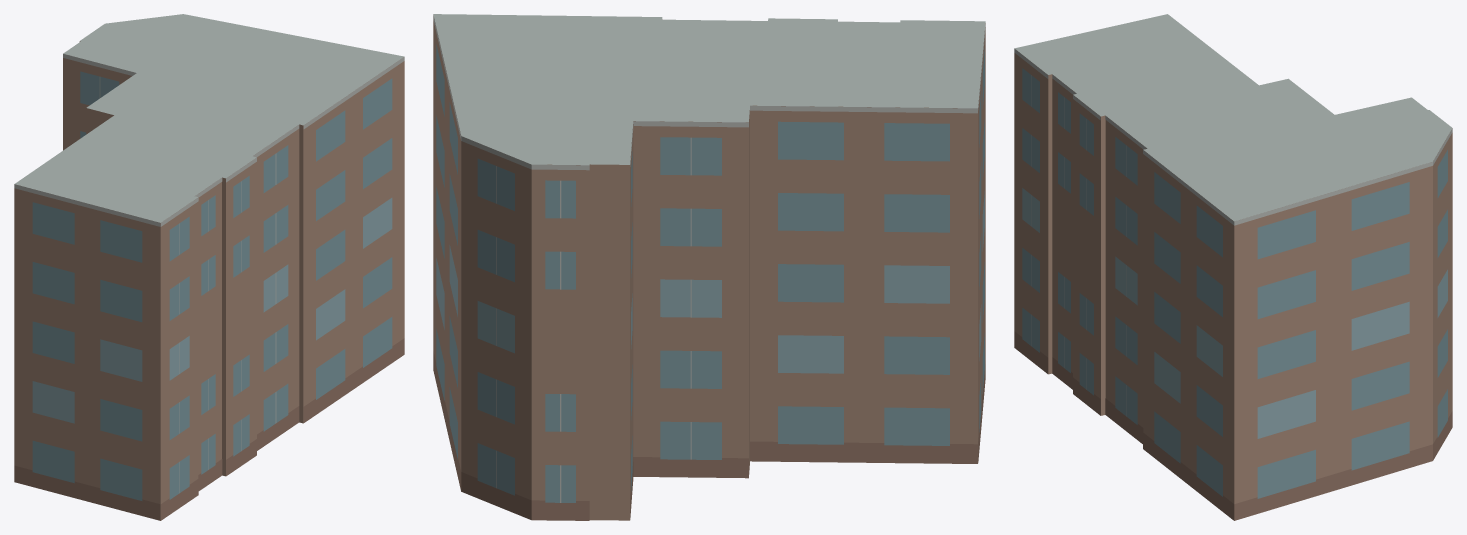
File: survey-upis-32893696.glb
3 views of the same model, side by side, from view 1: azimuth 30°, elevation 25°; view 2: azimuth 150°, elevation 25°; view 3: azimuth 270°, elevation 25° (orthographic). The views are drawn at different scales.
Visible parts, largest first — view 1: survey-upis-32893696.tmp; view 2: survey-upis-32893696.tmp; view 3: survey-upis-32893696.tmp.
Boxes of the visible parts, left/top/right/bottom form: survey-upis-32893696.tmp: left=14, top=14, right=404, bottom=520; survey-upis-32893696.tmp: left=433, top=14, right=985, bottom=520; survey-upis-32893696.tmp: left=1014, top=14, right=1452, bottom=520.
Size of the model in its own units: 26.03 by 17.5 by 23.23.
